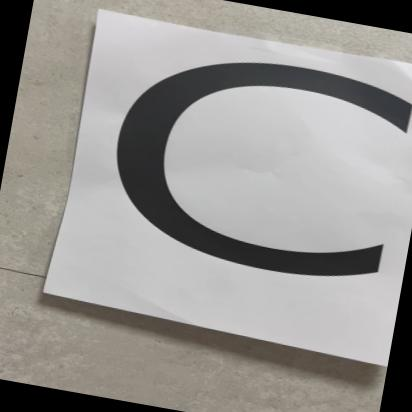seat: (26, 0, 412, 378)
